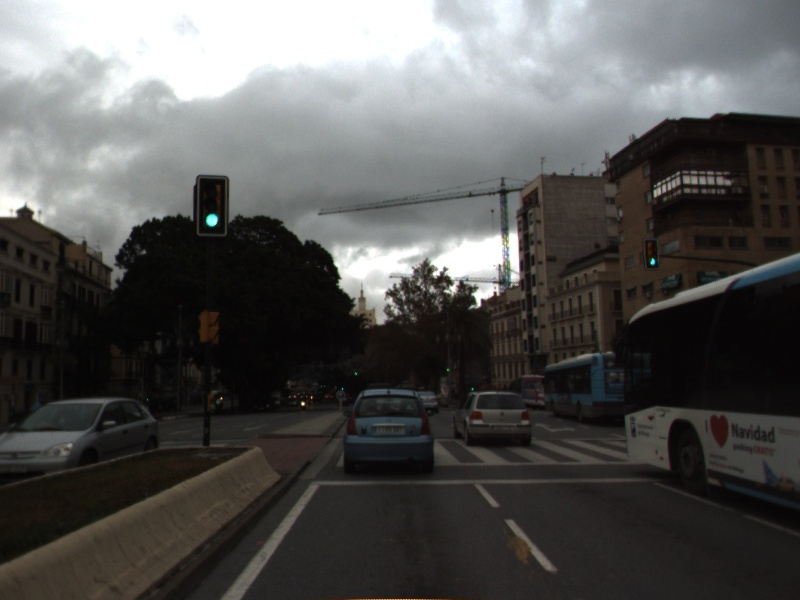STRAIGHT_RIGHT: (533, 420, 577, 435)
